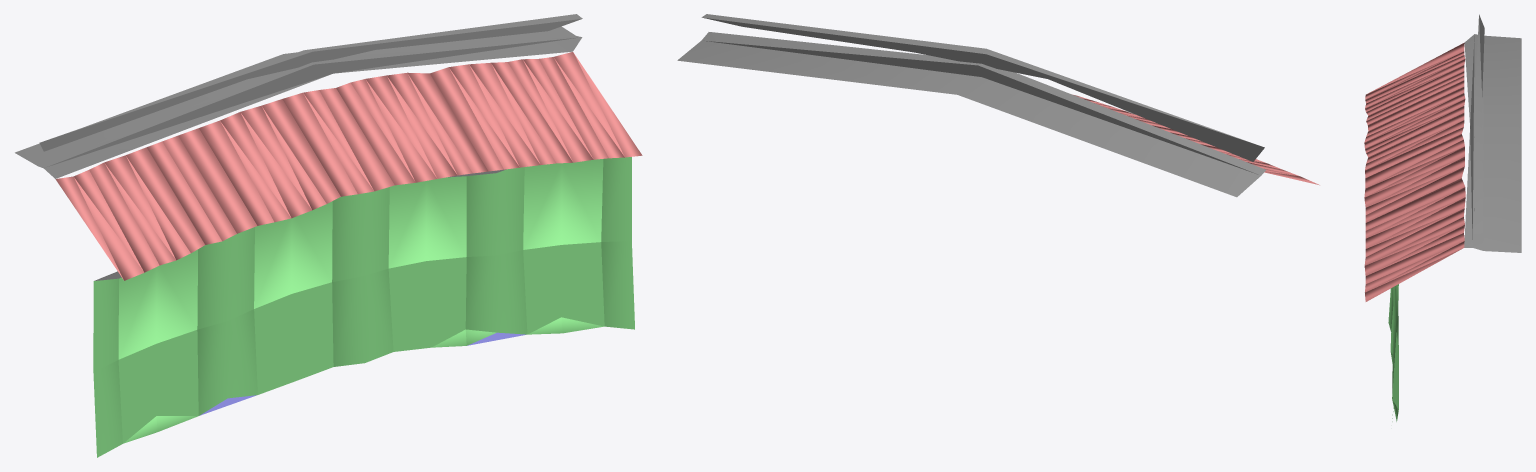
Rendered from LV_Terny_Rosso_BridgeDeco02_SM_EYE_Lod2.gltf.
3 views of the same model, side by side, from view 1: azimuth 30°, elevation 25°; view 2: azimuth 150°, elevation 25°; view 3: azimuth 270°, elevation 25° (orthographic). The views are drawn at different scales.
Visible parts, largest first — view 1: LV_Terny_Rosso_BridgeDeco02_SM_EYE_Lod2; view 2: LV_Terny_Rosso_BridgeDeco02_SM_EYE_Lod2; view 3: LV_Terny_Rosso_BridgeDeco02_SM_EYE_Lod2.
Boxes of the visible parts, <box> form: LV_Terny_Rosso_BridgeDeco02_SM_EYE_Lod2: <box>15,14,642,457</box>; LV_Terny_Rosso_BridgeDeco02_SM_EYE_Lod2: <box>677,14,1319,197</box>; LV_Terny_Rosso_BridgeDeco02_SM_EYE_Lod2: <box>1364,14,1521,421</box>.
Size of the model in its own units: 4.82 by 2.61 by 1.49.
